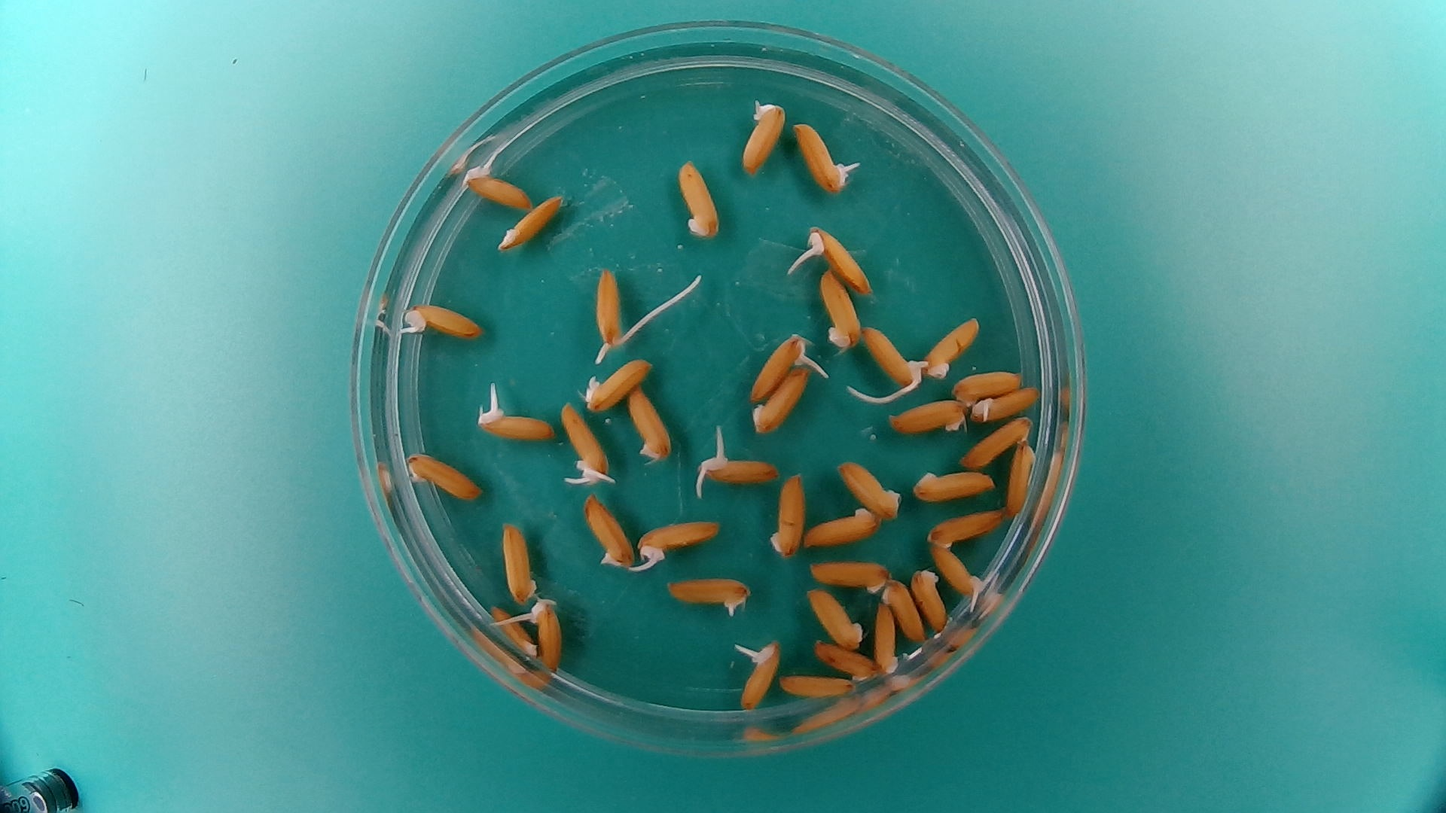no: (749, 364, 813, 436), (495, 191, 567, 254), (833, 458, 903, 520), (580, 491, 634, 571), (404, 448, 484, 501), (581, 354, 654, 412), (676, 155, 723, 242), (804, 583, 865, 650), (463, 157, 536, 212), (959, 415, 1034, 468), (816, 266, 862, 352), (627, 382, 674, 463), (922, 315, 981, 379), (923, 505, 1006, 550), (799, 504, 881, 549), (766, 468, 806, 559), (908, 464, 998, 504), (499, 518, 539, 604), (886, 394, 966, 436), (807, 556, 891, 594), (809, 637, 879, 679), (950, 367, 1025, 405), (488, 602, 538, 659), (882, 576, 925, 641), (1002, 439, 1036, 520), (909, 564, 948, 633), (777, 670, 855, 700), (873, 598, 901, 676)
yes: (799, 221, 876, 297), (792, 118, 858, 196), (746, 330, 813, 403), (634, 514, 726, 567), (557, 399, 612, 483), (660, 571, 754, 619), (694, 438, 782, 489), (927, 542, 991, 609), (862, 321, 925, 389), (737, 96, 788, 177), (588, 268, 630, 366), (734, 635, 782, 714), (398, 299, 487, 341), (474, 400, 558, 443), (526, 593, 564, 675), (969, 383, 1045, 423)
